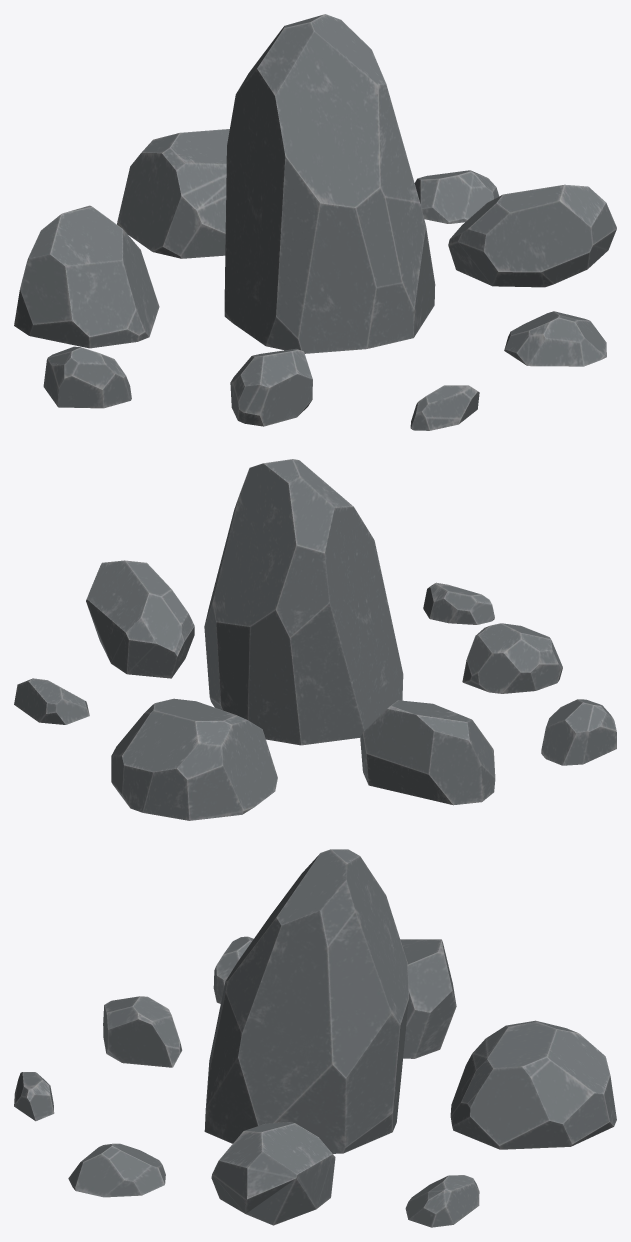
File: Rocks.gltf
3 renders of one model, top to bottom at view 1: azimuth 30°, elevation 25°; view 2: azimuth 150°, elevation 25°; view 3: azimuth 270°, elevation 25°, orthographic. The views are drawn at different scales.
Visible parts, largest first — view 1: Cube.001; view 2: Cube.001; view 3: Cube.001.
Part boxes in pixels (<box>): Cube.001: <box>14,14,616,430</box>; Cube.001: <box>14,459,616,820</box>; Cube.001: <box>14,849,616,1227</box>.
Size of the model in its own units: 2 by 0.9428 by 1.93.
Materials: 1 (1 with a texture image).
